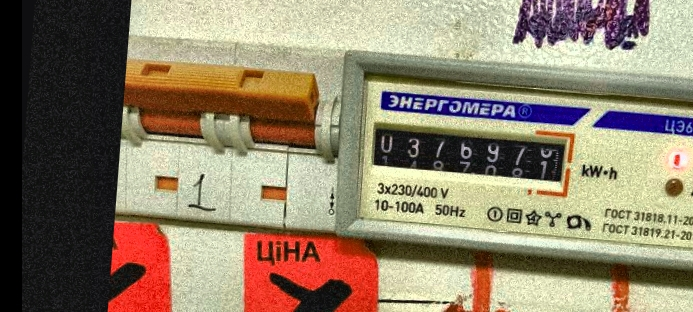0: (379, 131, 395, 154)
1: (538, 158, 549, 180)
3: (406, 136, 421, 158)
6: (458, 136, 475, 160)
7: (432, 135, 448, 159), (512, 141, 528, 165)
9: (485, 140, 501, 163)
screen: (360, 112, 579, 200)
